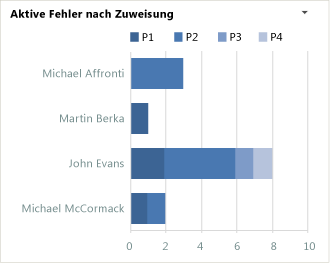canvas: (134, 51, 303, 227)
legend: (128, 28, 286, 45)
title: (9, 7, 177, 24)
x-axis: (127, 229, 310, 234)
x-labels: (125, 240, 318, 255)
y-axis: (128, 50, 132, 231)
y-labels: (21, 55, 126, 217)
